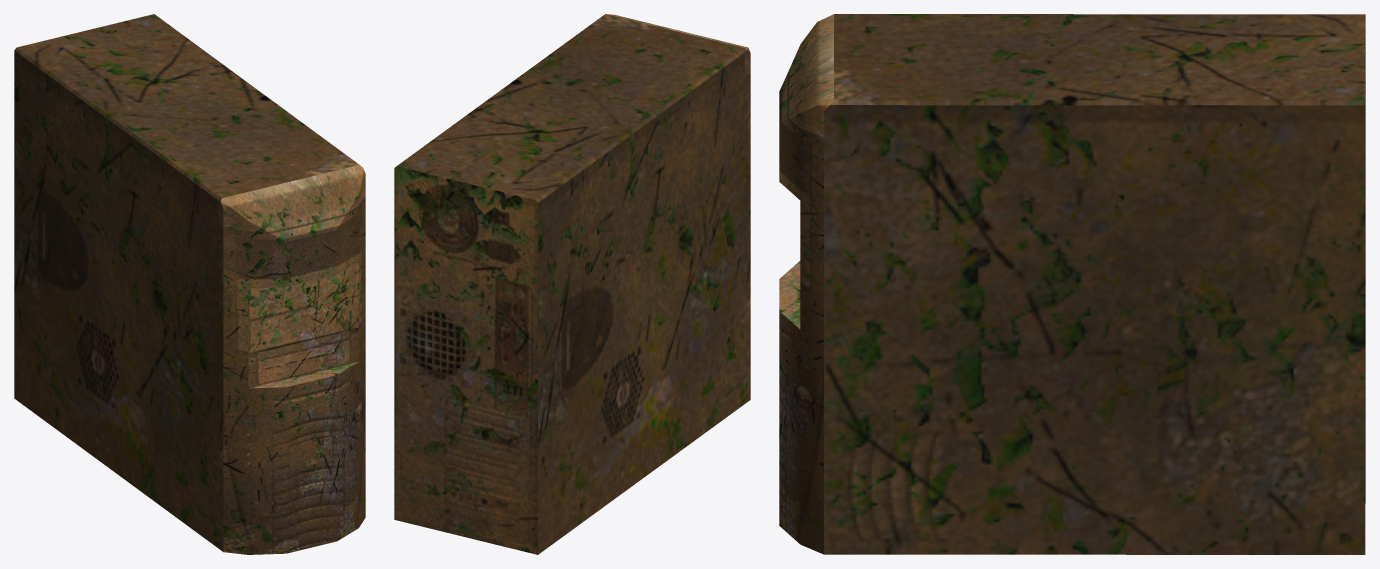
File: PC_CPU.FBX
The picture shows the model from 3 angles, left to right: view 1: azimuth 30°, elevation 25°; view 2: azimuth 150°, elevation 25°; view 3: azimuth 270°, elevation 25°; orthographic projection. The views are drawn at different scales.
Visible parts, largest first — view 1: pc; view 2: pc; view 3: pc.
Part boxes in pixels (x1,y1,x2,y2): pc: (14,14,365,554); pc: (394,14,750,554); pc: (779,14,1365,554).
Size of the model in its own units: 7.07 by 16.59 by 19.48.
